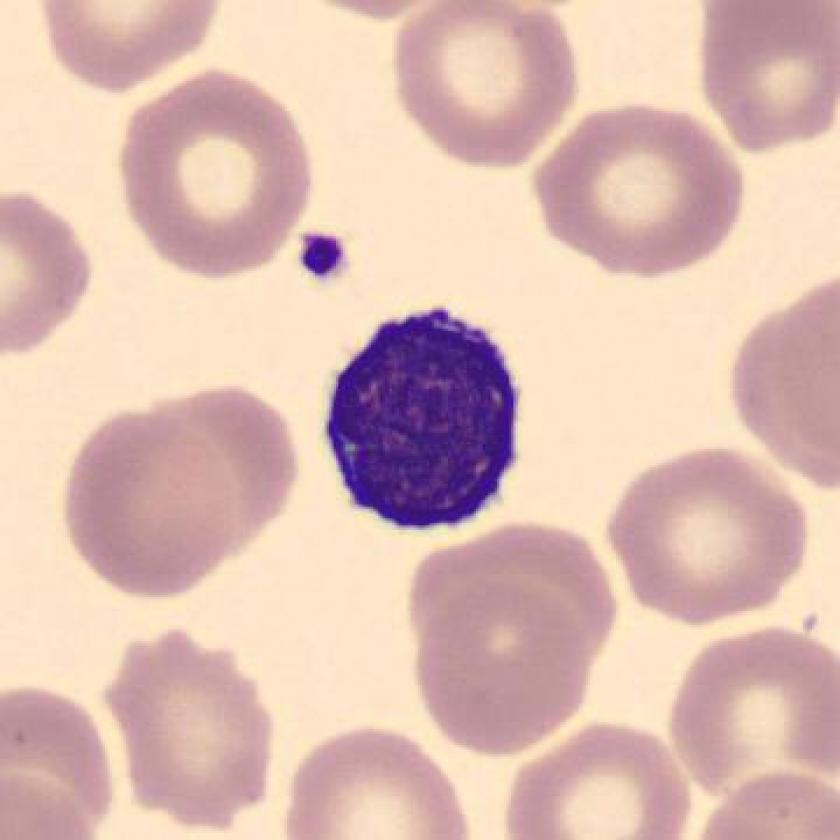lymphocyte: (307, 295, 540, 556)
platelets: (296, 224, 352, 286)
